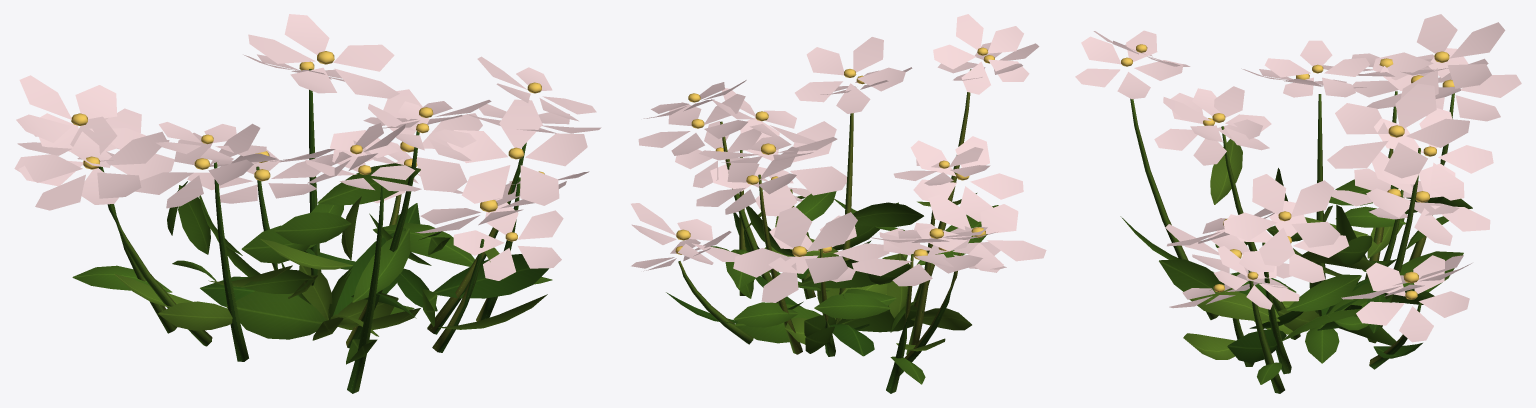
Rendered from Sakura_low_1.glb.
3 views of the same model, side by side, from view 1: azimuth 30°, elevation 25°; view 2: azimuth 150°, elevation 25°; view 3: azimuth 270°, elevation 25° (orthographic). The views are drawn at different scales.
Visible parts, largest first — view 1: Sakura_low_1_Flowers.003, Sakura_low_1_Leaves.004, Sakura_low_1_Stems.004, Sakura_low_1_Centers.003; view 2: Sakura_low_1_Flowers.003, Sakura_low_1_Leaves.004, Sakura_low_1_Stems.004, Sakura_low_1_Centers.003; view 3: Sakura_low_1_Flowers.003, Sakura_low_1_Leaves.004, Sakura_low_1_Stems.004, Sakura_low_1_Centers.003.
Boxes of the visible parts, box(x1,y1,x2,y2) form: Sakura_low_1_Flowers.003: box(14, 14, 601, 280); Sakura_low_1_Leaves.004: box(72, 163, 552, 364); Sakura_low_1_Stems.004: box(98, 69, 526, 393); Sakura_low_1_Centers.003: box(71, 51, 544, 241); Sakura_low_1_Flowers.003: box(631, 14, 1046, 302); Sakura_low_1_Leaves.004: box(666, 191, 998, 384); Sakura_low_1_Stems.004: box(678, 69, 971, 393); Sakura_low_1_Centers.003: box(675, 47, 994, 259); Sakura_low_1_Flowers.003: box(1075, 14, 1521, 342); Sakura_low_1_Leaves.004: box(1120, 139, 1472, 384); Sakura_low_1_Stems.004: box(1130, 91, 1454, 393); Sakura_low_1_Centers.003: box(1121, 44, 1454, 299).
Size of the model in its own units: 1.08 by 0.6228 by 0.9053.
Materials: 3 (1 with a texture image).
